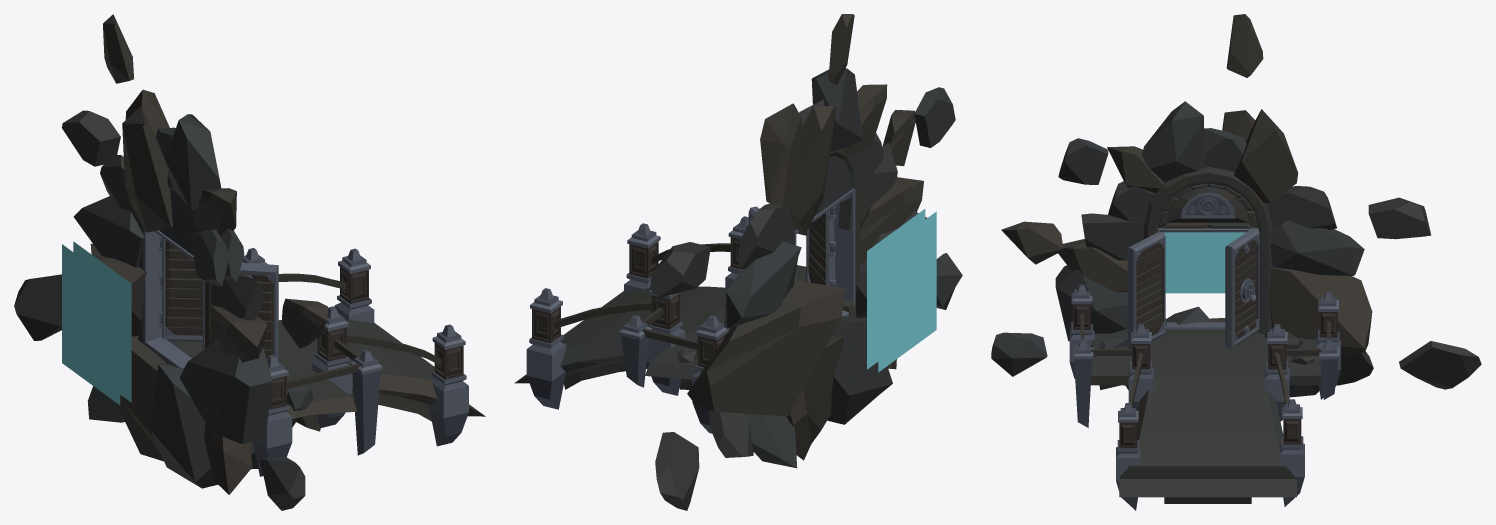
File: GATE.fbx
3 renders of one model, left to right at view 1: azimuth 30°, elevation 25°; view 2: azimuth 150°, elevation 25°; view 3: azimuth 270°, elevation 25°, orthographic. The views are drawn at different scales.
Parts seen in each view (by area): view 1: Cube.002, Cylinder.000; view 2: Cube.002, Cylinder.000; view 3: Cube.002, Cylinder.000.
Boxes of the visible parts, x1,y1,x2,y2 form: Cube.002: [14, 14, 485, 510]; Cylinder.000: [62, 241, 131, 405]; Cube.002: [514, 14, 962, 510]; Cylinder.000: [867, 209, 936, 372]; Cube.002: [991, 14, 1481, 510]; Cylinder.000: [1164, 232, 1245, 293].
Size of the model in its own units: 2708 by 3478 by 3939.
